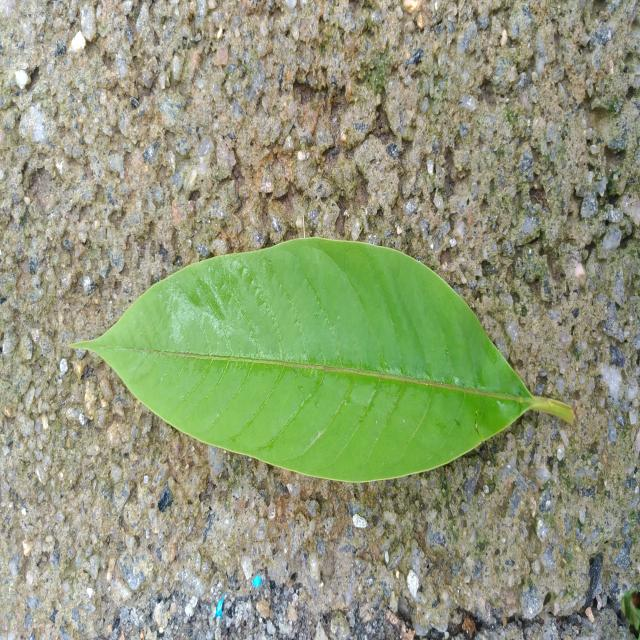coffee: (79, 238, 574, 482)
